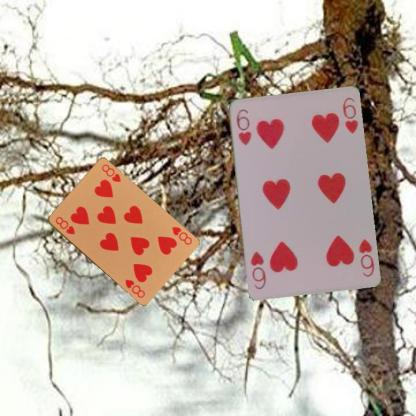6h: (355, 236, 375, 278), (234, 106, 252, 146)
8h: (52, 214, 76, 236), (169, 224, 193, 246)
